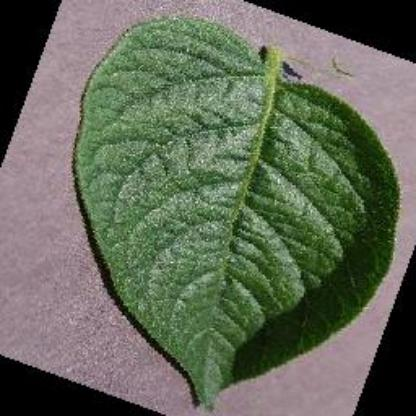Healthy-plant: (49, 10, 414, 408)
